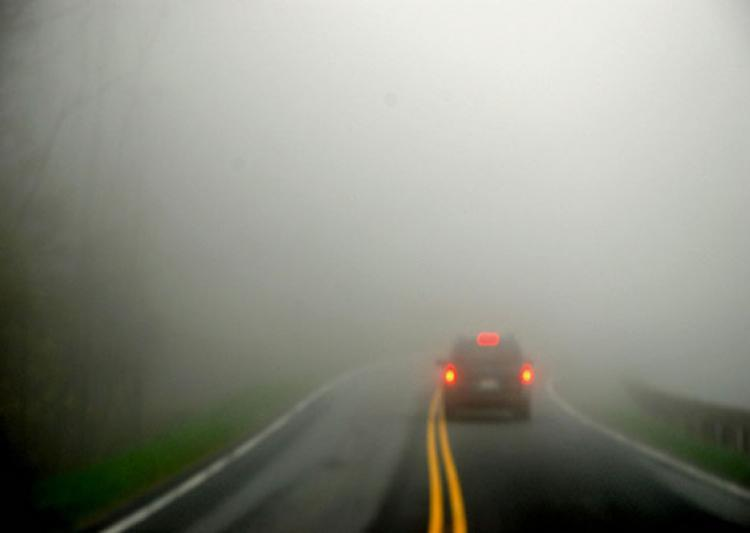bus: (417, 331, 512, 509), (358, 330, 538, 419), (444, 329, 533, 419), (475, 328, 528, 402), (515, 358, 536, 416)
car: (79, 331, 521, 527), (402, 330, 750, 527), (185, 317, 522, 444), (355, 338, 493, 520), (296, 328, 531, 417), (416, 324, 633, 416), (435, 336, 539, 510), (393, 327, 531, 449), (420, 336, 499, 530), (439, 330, 537, 420), (409, 370, 527, 439), (421, 366, 467, 532), (413, 342, 477, 458), (494, 336, 536, 413), (515, 350, 538, 414)
cell phone: (31, 262, 428, 533)
chair: (80, 337, 516, 531), (408, 351, 506, 532), (422, 359, 469, 533)
clock: (476, 331, 500, 346)
fire hydrant: (515, 358, 536, 416)
kite: (476, 331, 500, 346)
parking meter: (430, 358, 460, 408), (515, 358, 536, 416), (517, 360, 535, 390)
person: (0, 55, 438, 533), (80, 337, 516, 531), (422, 358, 469, 531), (437, 358, 462, 408), (515, 358, 536, 416)
stop sign: (476, 331, 500, 346)
traffic light: (444, 328, 531, 415), (435, 340, 473, 404), (500, 333, 533, 399), (512, 355, 535, 416), (430, 353, 460, 397), (475, 330, 501, 380), (440, 361, 461, 409), (464, 331, 505, 354), (435, 358, 467, 387), (517, 360, 535, 398), (449, 361, 467, 390), (442, 361, 458, 388), (476, 331, 500, 346)
train: (406, 329, 536, 421)
truck: (146, 340, 666, 530), (402, 330, 750, 527), (296, 328, 531, 417), (417, 331, 512, 509), (393, 327, 531, 449), (439, 330, 537, 420), (477, 323, 548, 412), (514, 347, 537, 410)
tv: (440, 329, 532, 418)
umbrella: (476, 331, 500, 346)
